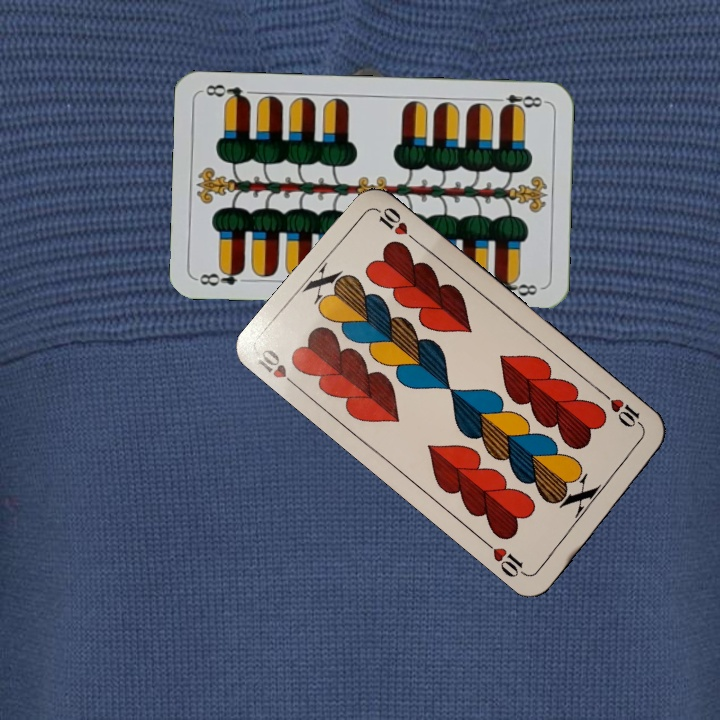E8: (489, 90, 548, 114), (194, 264, 247, 289)
H10: (253, 345, 303, 393), (599, 389, 648, 433)
